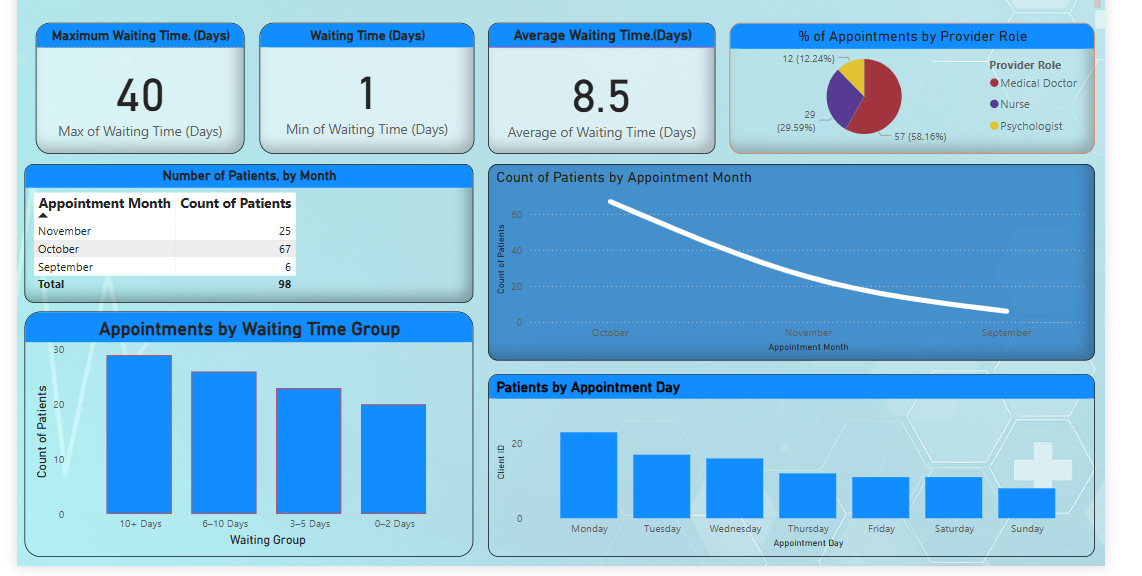

This screenshot's page, from the dashboard's own definition file:
{"tool":"powerbi","page":{"name":"Page 1","canvas":[1280,720],"ordinal":0},"visuals":[{"type":"textbox","box":[10.1,0,1269.6,69.3],"z":0},{"type":"clusteredColumnChart","title":"Appointments by Waiting Time Group","fields":{"Y":["CountNonNull(Appointment_Scheduling_With_WaitingGroup.Client ID)"],"Category":["Appointment_Scheduling_With_WaitingGroup.Waiting Group"]},"box":[10.3,420.6,529.4,288.2],"z":1000},{"type":"card","title":"Waiting Time (Days)","fields":{"Values":["Min(Appointment_Scheduling_With_WaitingGroup.Waiting Time (Days))"]},"box":[285.1,81.1,252.7,154.1],"z":2000},{"type":"card","title":"Maximum Waiting Time. (Days)","fields":{"Values":["Max(Appointment_Scheduling_With_WaitingGroup.Waiting Time (Days))"]},"box":[21.6,81.1,245.9,154.1],"z":3000},{"type":"card","title":"Average Waiting Time.(Days)","fields":{"Values":["Avg(Appointment_Scheduling_With_WaitingGroup.Waiting Time (Days))"]},"box":[554.1,81.1,267.6,154.1],"z":4000},{"type":"clusteredColumnChart","title":" Patients by Appointment Day","fields":{"Y":["CountNonNull(Appointment_Scheduling_With_WaitingGroup.Client ID)"],"Category":["Appointment_Scheduling_With_WaitingGroup.Appointment Day"]},"box":[554.1,494.6,713.5,214.9],"z":5000},{"type":"pieChart","title":"% of Appointments by Provider Role","fields":{"Category":["Appointment_Scheduling_With_WaitingGroup.Provider Role"],"Y":["CountNonNull(Appointment_Scheduling_With_WaitingGroup.Client ID)"]},"box":[837.8,81.1,429.7,154.1],"z":6000},{"type":"tableEx","title":"Number of Patients, by Month","fields":{"Values":["Appointment_Scheduling_With_WaitingGroup.Appointment Month","CountNonNull(Appointment_Scheduling_With_WaitingGroup.Patients)"]},"box":[9.5,247.3,528.4,163.5],"z":7000},{"type":"lineChart","fields":{"Category":["Appointment_Scheduling_With_WaitingGroup.Appointment Month"],"Y":["CountNonNull(Appointment_Scheduling_With_WaitingGroup.Patients)"]},"box":[554.1,247.3,713.5,231.1],"z":8000}]}

Visuals, with their boxes in screenshot pixels (x1, y1, x2, y2):
textbox: [23, 0, 1102, 20]
"Appointments by Waiting Time Group" clusteredColumnChart: [24, 319, 473, 563]
"Waiting Time (Days)" card: [257, 30, 472, 161]
"Maximum Waiting Time. (Days)" card: [33, 30, 242, 161]
"Average Waiting Time.(Days)" card: [486, 30, 713, 161]
" Patients by Appointment Day" clusteredColumnChart: [486, 381, 1092, 564]
"% of Appointments by Provider Role" pieChart: [726, 30, 1091, 161]
"Number of Patients, by Month" tableEx: [23, 171, 472, 310]
lineChart - Appointment_Scheduling_With_WaitingGroup.Appointment Month x CountNonNull(Appointment_Scheduling_With_WaitingGroup.Patients): [486, 171, 1092, 368]
